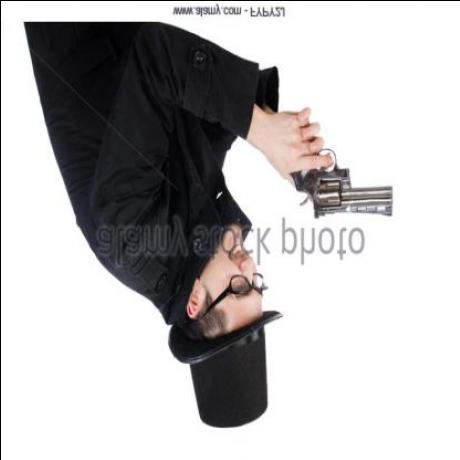1: (18, 30, 322, 430)
weapon: (294, 127, 398, 230)
